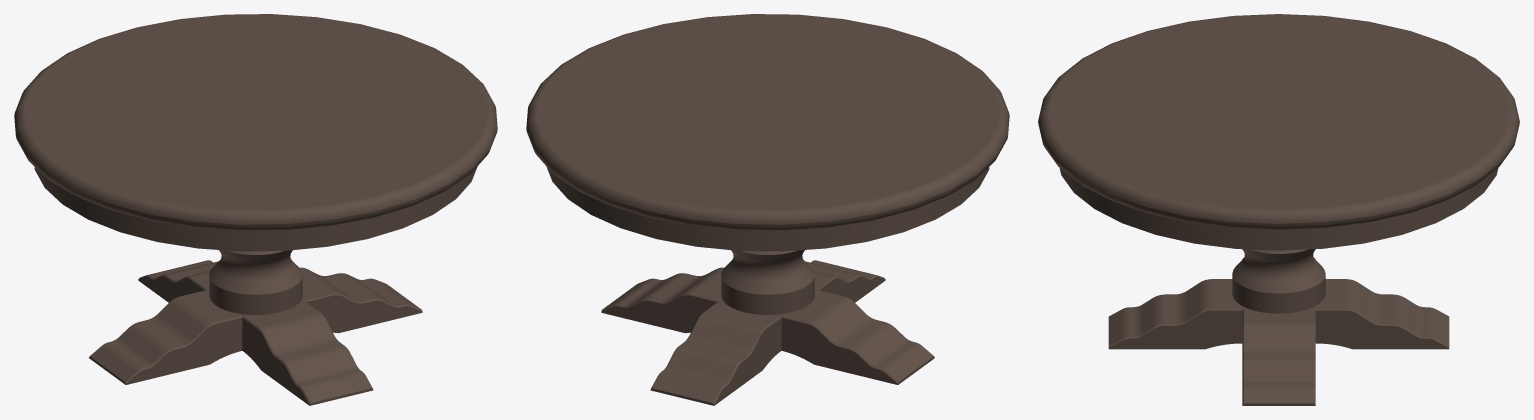
Rendered from TableRonde_31.fbx.
The picture shows the model from 3 angles, left to right: view 1: azimuth 30°, elevation 25°; view 2: azimuth 150°, elevation 25°; view 3: azimuth 270°, elevation 25°; orthographic projection.
Visible parts, largest first — view 1: pCylinder17, pCube21, pCube22, pCube20, pCube23; view 2: pCylinder17, pCube21, pCube23, pCube20, pCube22; view 3: pCylinder17, pCube23, pCube22, pCube20.
Boxes of the visible parts, x1,y1,x2,y2 form: pCylinder17: [14, 14, 497, 314]; pCube21: [89, 290, 242, 384]; pCube22: [241, 301, 373, 405]; pCube20: [206, 267, 422, 333]; pCube23: [138, 260, 218, 302]; pCylinder17: [526, 14, 1009, 314]; pCube21: [781, 290, 934, 384]; pCube23: [650, 301, 782, 405]; pCube20: [601, 267, 817, 333]; pCube22: [805, 260, 885, 302]; pCylinder17: [1038, 14, 1519, 313]; pCube23: [1309, 279, 1449, 349]; pCube22: [1108, 279, 1248, 349]; pCube20: [1242, 309, 1315, 405].
Bounding box in the file's own units: 54.72 × 27.81 × 54.72.
